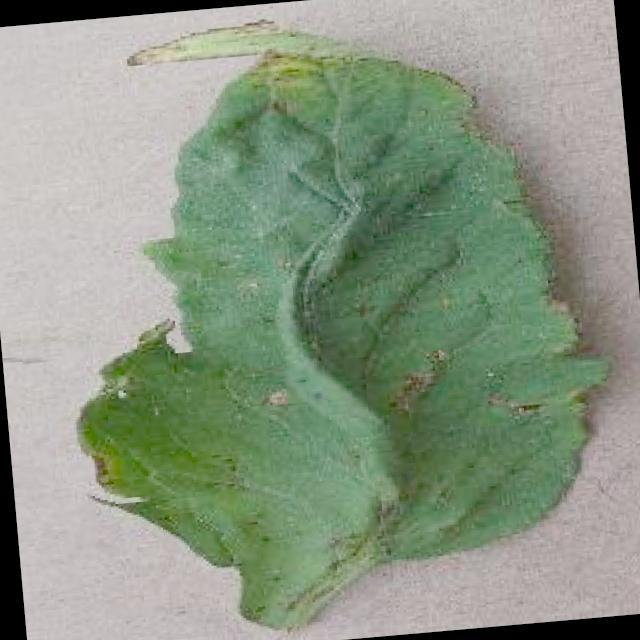Tomato bacterial spot leaf: (18, 0, 639, 640)
